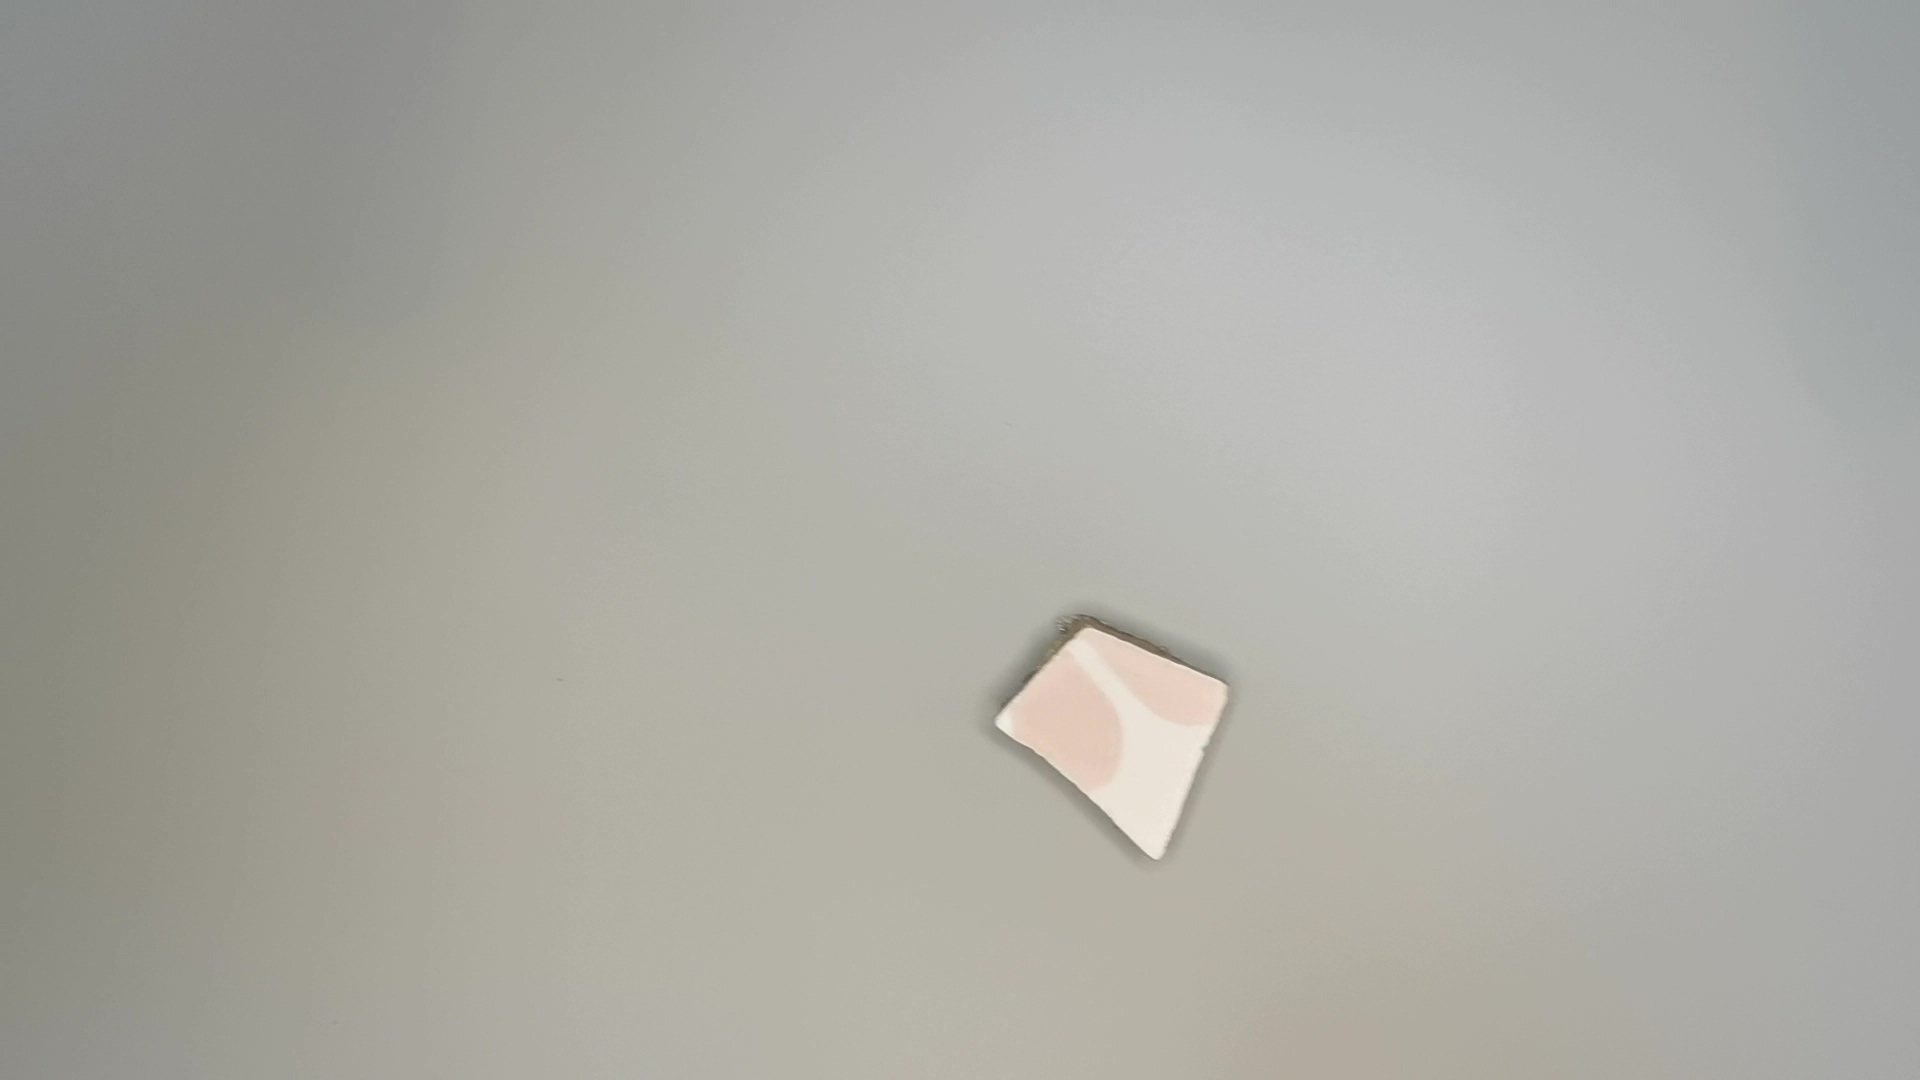ceramic: (988, 611, 1238, 880)
